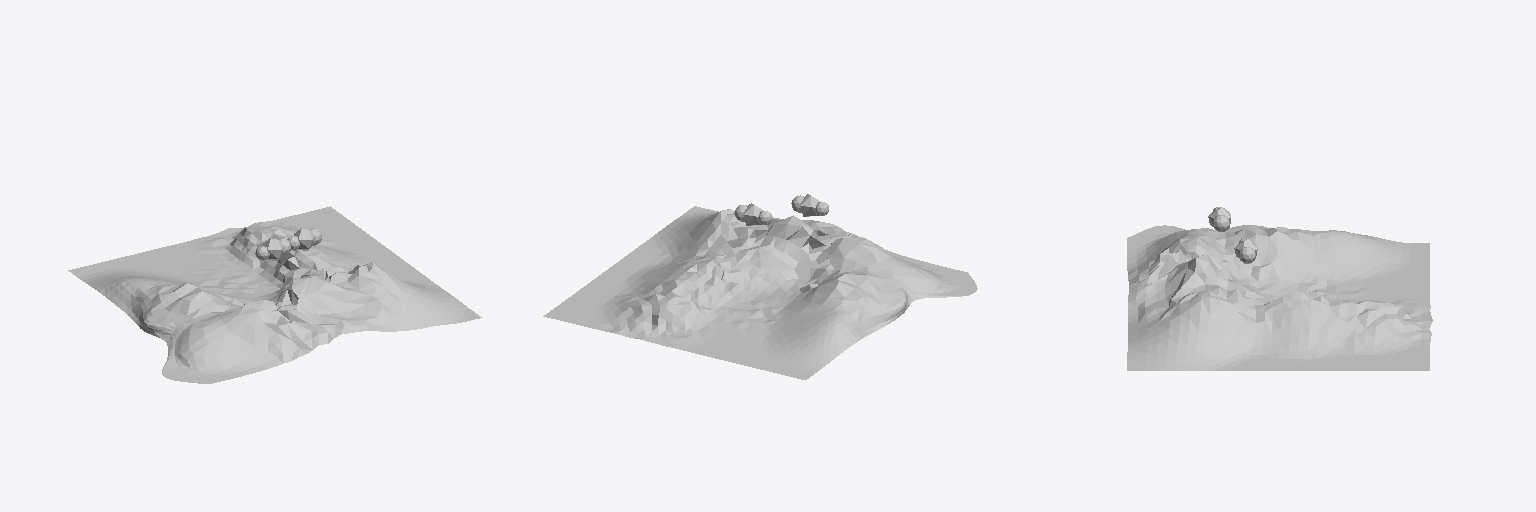
File: mtn2.obj
3 renders of one model, left to right at view 1: azimuth 30°, elevation 25°; view 2: azimuth 150°, elevation 25°; view 3: azimuth 270°, elevation 25°, orthographic.
Size of the model in its own units: 14.72 by 3.98 by 13.02.